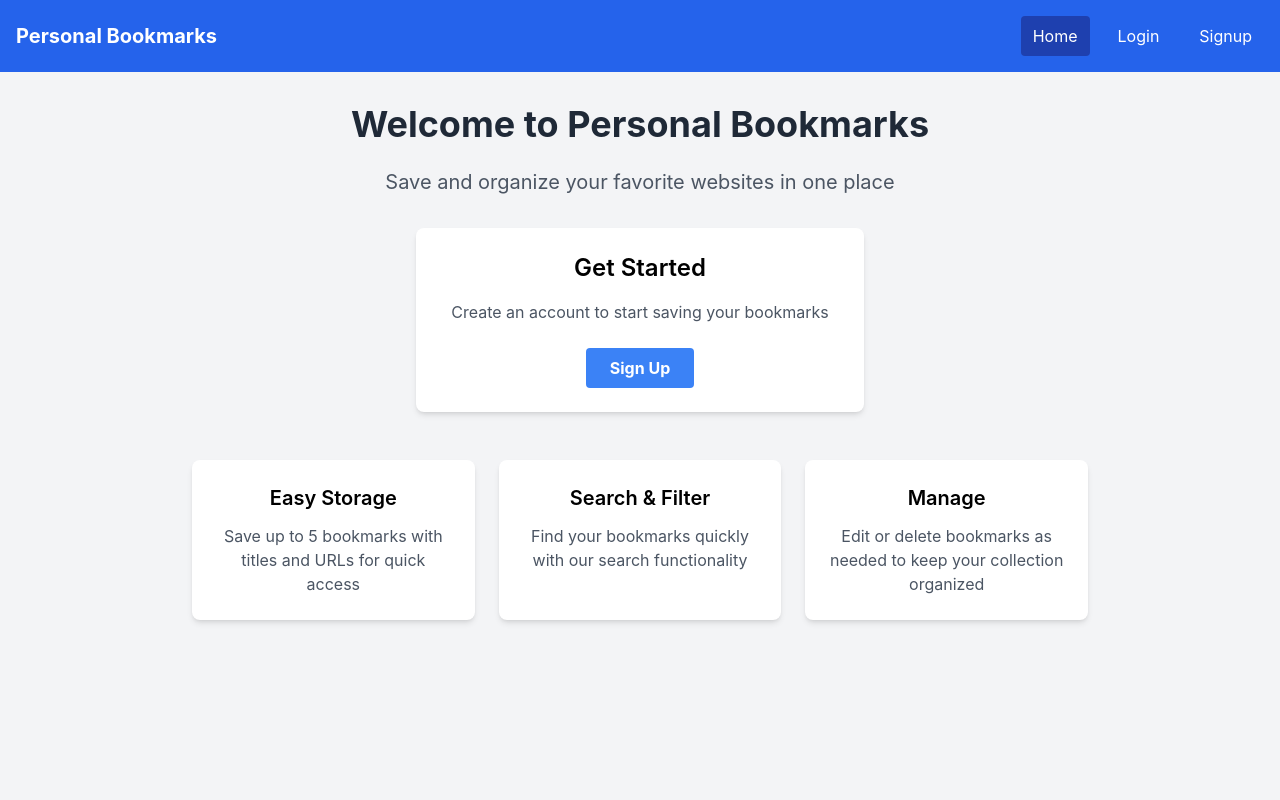
Test: navigates to login
Note: Click login button in navbar (use getAllByRole and pick the first one)
Click the button "Login" at (1138, 36), box [1106,16,1171,56]
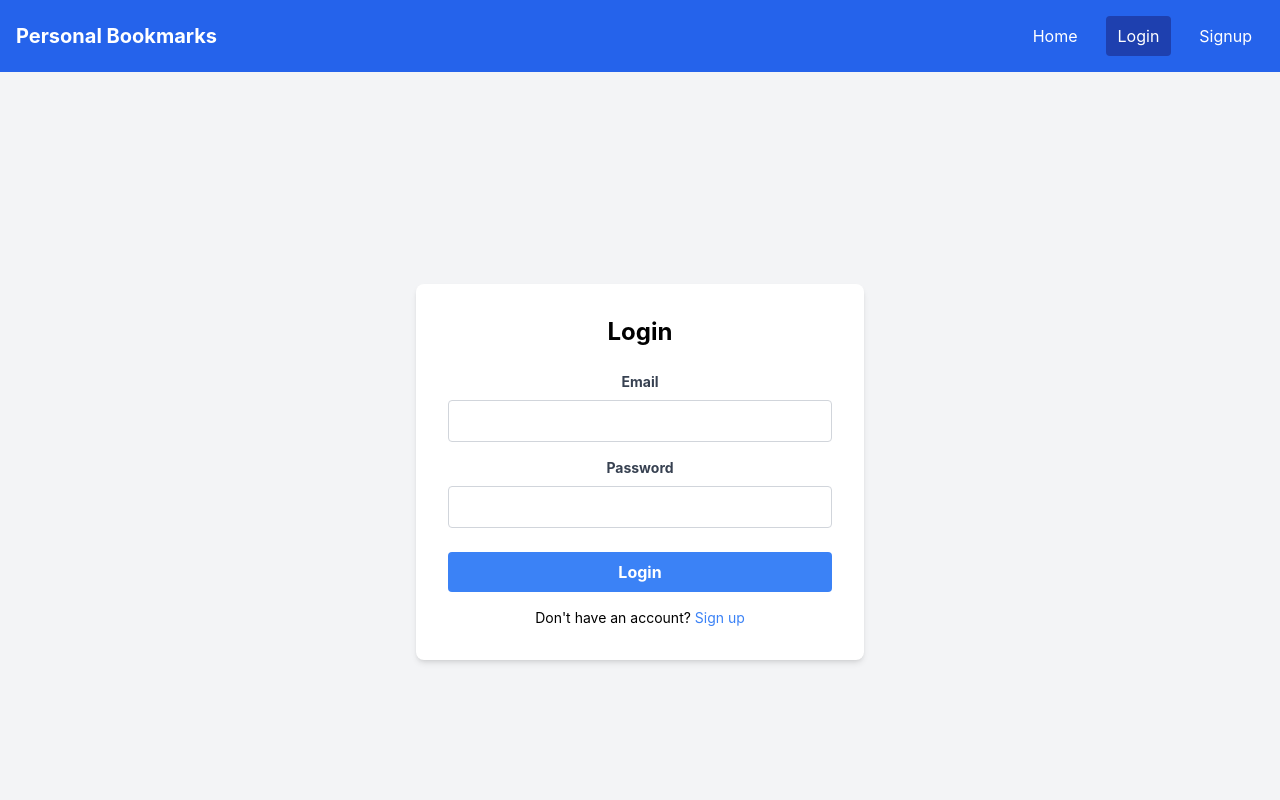
Expected: the heading "Login" is shown, [608,317,672,346]
